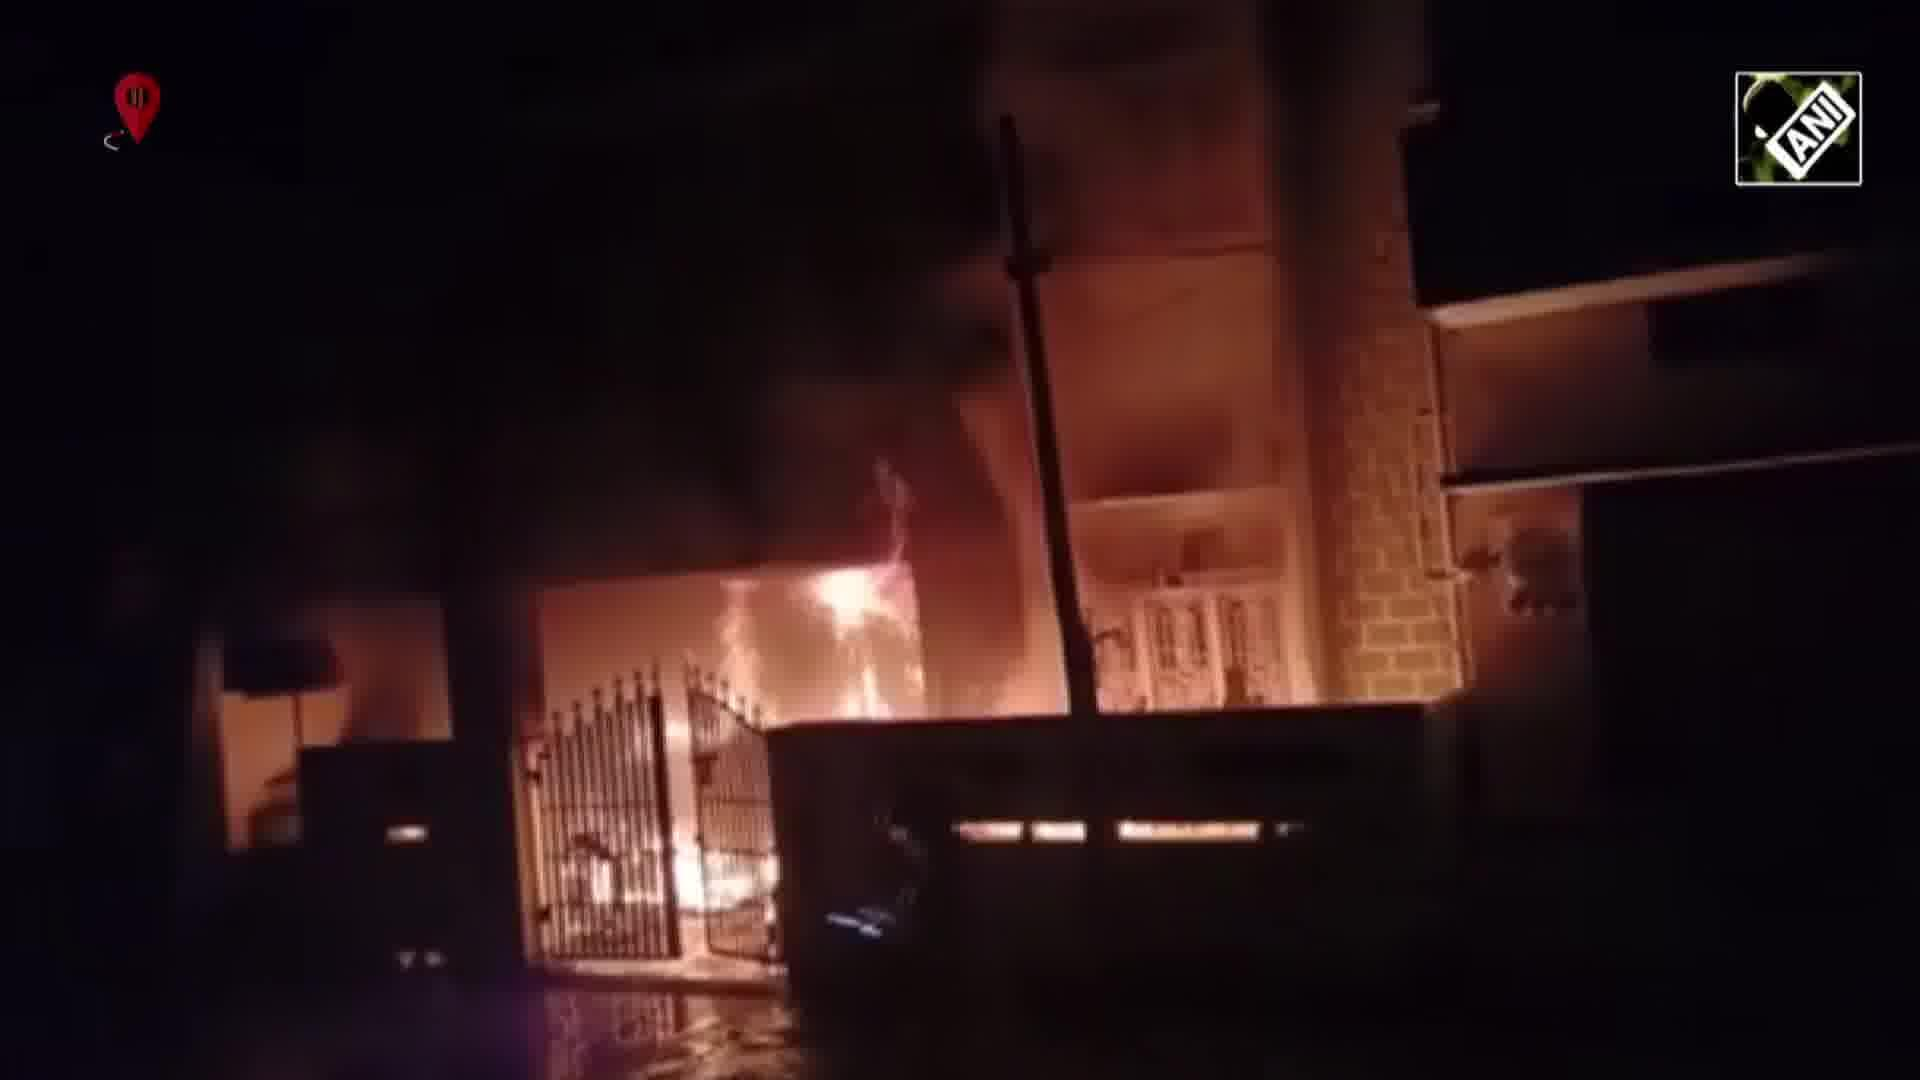fire: (665, 570, 906, 707), (636, 816, 735, 924)
